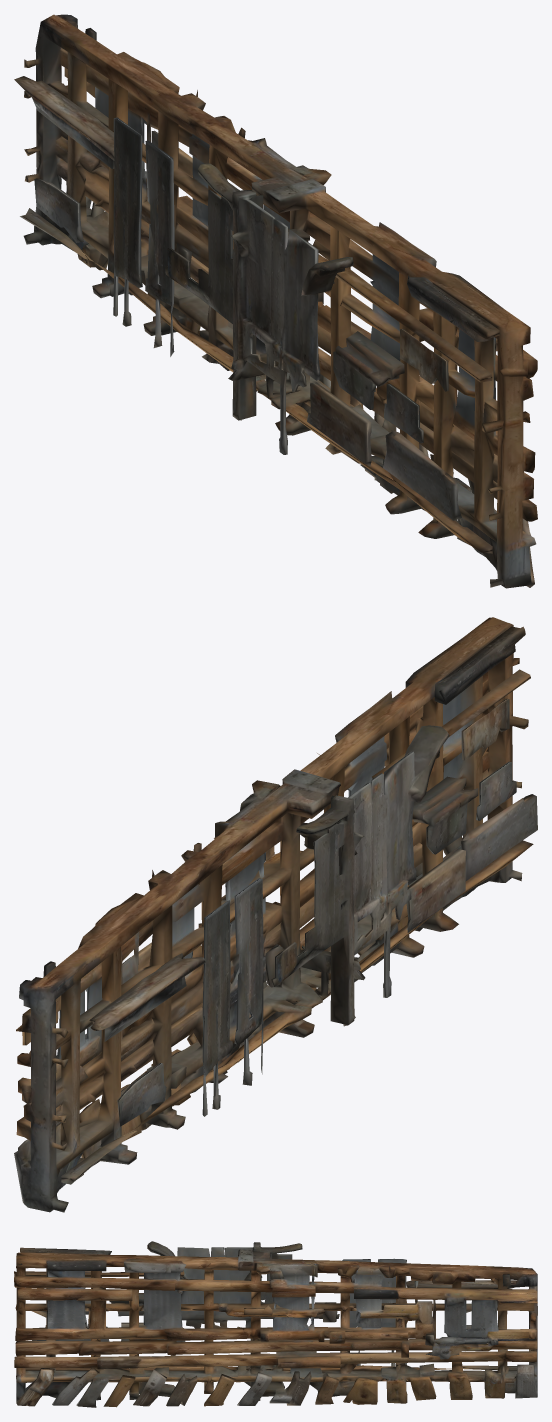
Rendered from barricade.glb.
3 views of the same model, one above another, from view 1: azimuth 30°, elevation 25°; view 2: azimuth 150°, elevation 25°; view 3: azimuth 270°, elevation 25° (orthographic). The views are drawn at different scales.
Parts seen in each view (by area): view 1: tripo_node_54f4cdef-26a3-49fe-81c1-fb39059704da; view 2: tripo_node_54f4cdef-26a3-49fe-81c1-fb39059704da; view 3: tripo_node_54f4cdef-26a3-49fe-81c1-fb39059704da.
Part boxes in pixels (<box>): tripo_node_54f4cdef-26a3-49fe-81c1-fb39059704da: <box>14,14,537,588</box>; tripo_node_54f4cdef-26a3-49fe-81c1-fb39059704da: <box>14,617,537,1212</box>; tripo_node_54f4cdef-26a3-49fe-81c1-fb39059704da: <box>14,1241,537,1407</box>.
Bounding box in the file's own units: 0.1349 × 0.3126 × 1.
Materials: 1 (1 with a texture image).
